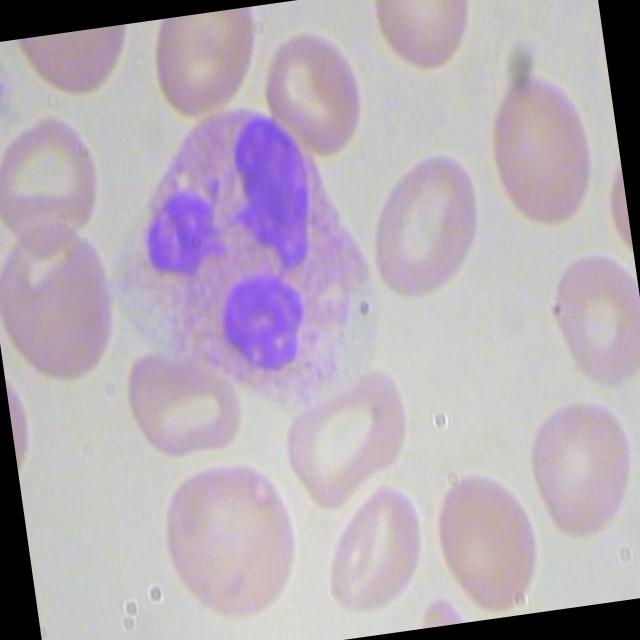RBC: (152, 447, 304, 626), (462, 57, 614, 236), (355, 132, 506, 310), (265, 362, 421, 514), (0, 214, 123, 391), (421, 455, 550, 618), (308, 474, 437, 636), (517, 386, 640, 549), (112, 332, 248, 470), (0, 98, 114, 255), (530, 245, 640, 396), (256, 18, 368, 166), (147, 7, 261, 123), (367, 0, 481, 92)
WBC: (96, 78, 418, 420)
